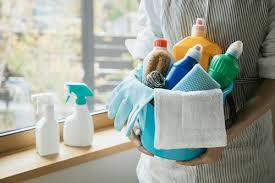cleaning chemical: (174, 19, 221, 71), (165, 44, 200, 89), (142, 40, 174, 87), (209, 40, 242, 85)
